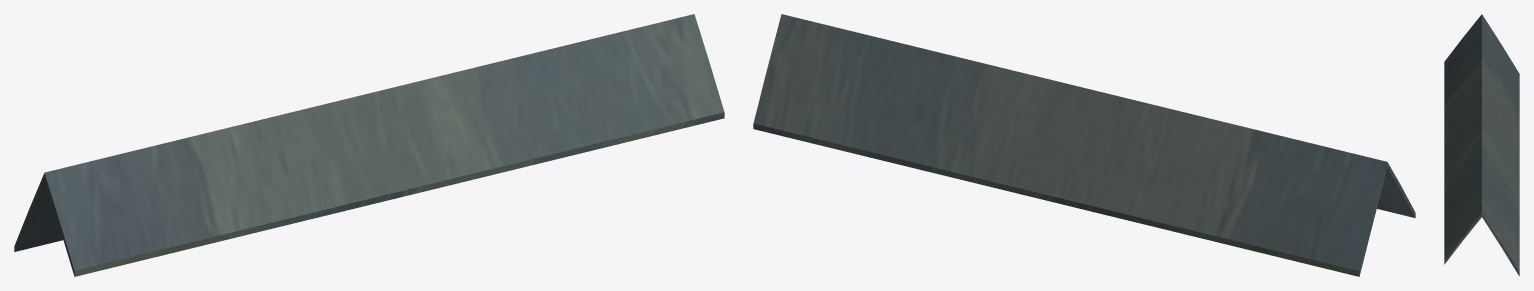
Rendered from CM_SlateRoofKit01_Ridge2m_Hero.fbx.
3 views of the same model, side by side, from view 1: azimuth 30°, elevation 25°; view 2: azimuth 150°, elevation 25°; view 3: azimuth 270°, elevation 25° (orthographic). The views are drawn at different scales.
Visible parts, largest first — view 1: CM_SlateRoofKit01_Ridge2m_Hero_Slate; view 2: CM_SlateRoofKit01_Ridge2m_Hero_Slate; view 3: CM_SlateRoofKit01_Ridge2m_Hero_Slate.
Part boxes in pixels (x1,y1,x2,y2): CM_SlateRoofKit01_Ridge2m_Hero_Slate: [14, 14, 724, 276]; CM_SlateRoofKit01_Ridge2m_Hero_Slate: [753, 14, 1415, 276]; CM_SlateRoofKit01_Ridge2m_Hero_Slate: [1444, 14, 1519, 276].
Bounding box in the file's own units: 2 × 0.2984 × 0.32.
